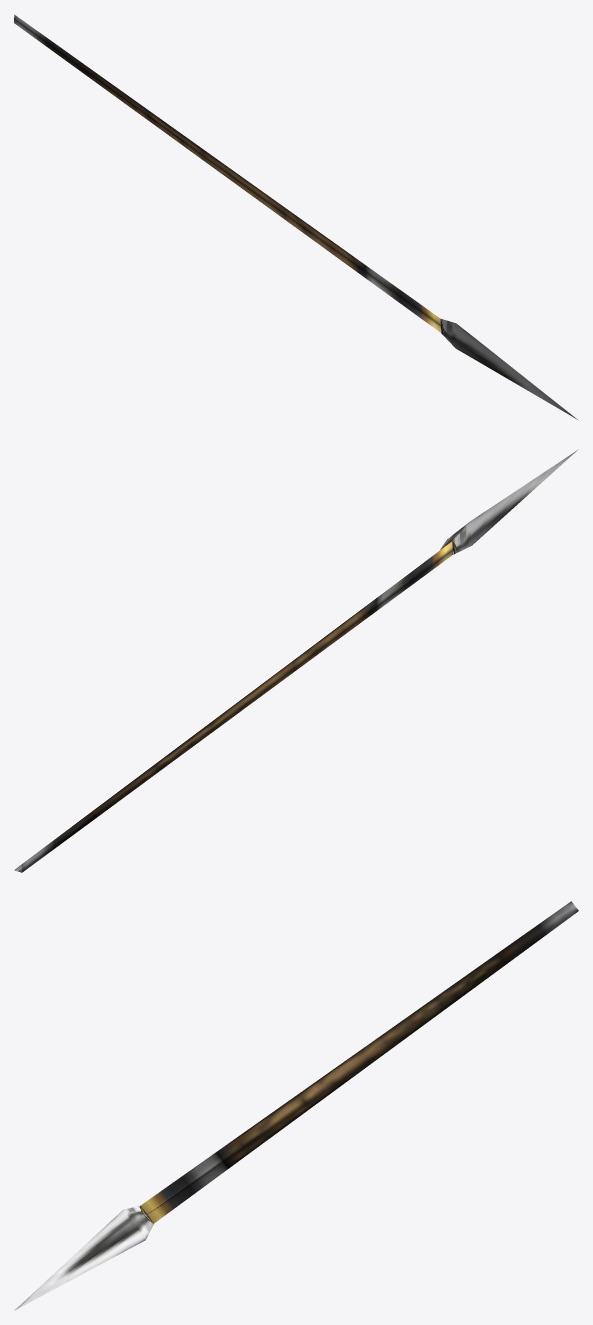
File: Spear.FBX
3 renders of one model, top to bottom at view 1: azimuth 30°, elevation 25°; view 2: azimuth 150°, elevation 25°; view 3: azimuth 330°, elevation 25°, orthographic.
Visible parts, largest first — view 1: Object001; view 2: Object001; view 3: Object001.
Boxes of the visible parts, bbox=[...] form: Object001: bbox=[14, 14, 577, 419]; Object001: bbox=[14, 449, 578, 872]; Object001: bbox=[14, 901, 578, 1310].
Size of the model in its own units: 6.77 by 6.68 by 266.
1 material, 1 textured.
